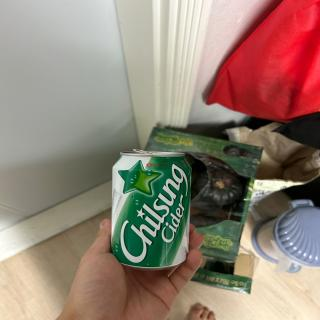chilsung: (110, 149, 194, 273)
